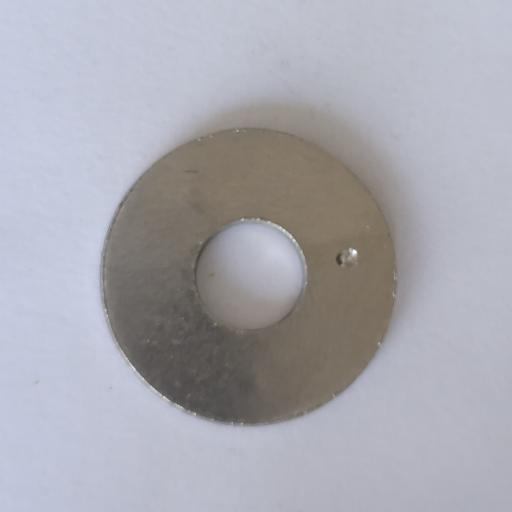circular_cavity: (336, 246, 359, 271)
